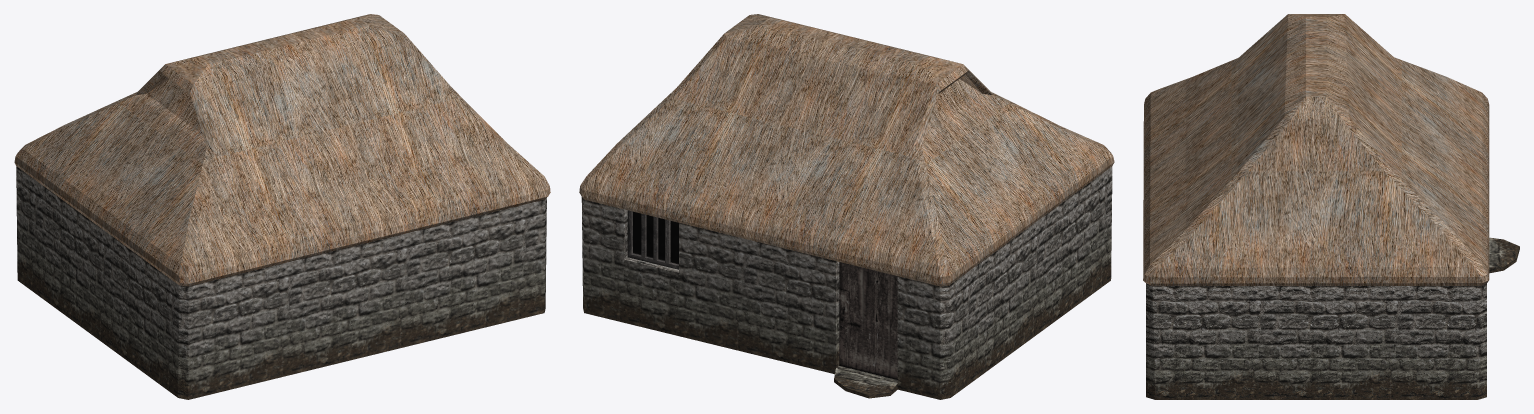
Rendered from poorfolks_cottage2.FBX.
The picture shows the model from 3 angles, left to right: view 1: azimuth 30°, elevation 25°; view 2: azimuth 150°, elevation 25°; view 3: azimuth 270°, elevation 25°; orthographic projection.
Visible parts, largest first — view 1: poorfolks_cottage2_thatched_attached; view 2: poorfolks_cottage2_thatched_attached; view 3: poorfolks_cottage2_thatched_attached.
Part boxes in pixels (<box>): poorfolks_cottage2_thatched_attached: <box>14,14,550,399</box>; poorfolks_cottage2_thatched_attached: <box>579,14,1114,399</box>; poorfolks_cottage2_thatched_attached: <box>1143,14,1519,399</box>.
Size of the model in its own units: 646 by 566 by 421.
